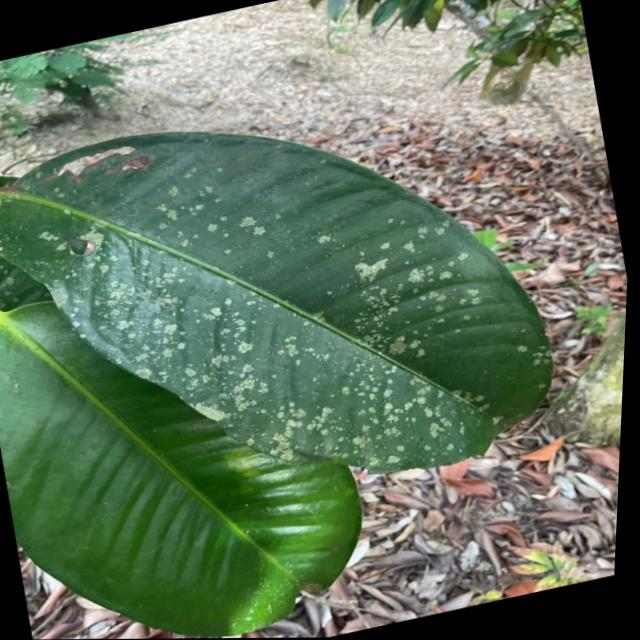Leaf Spot: (36, 132, 552, 528), (203, 232, 233, 309)
